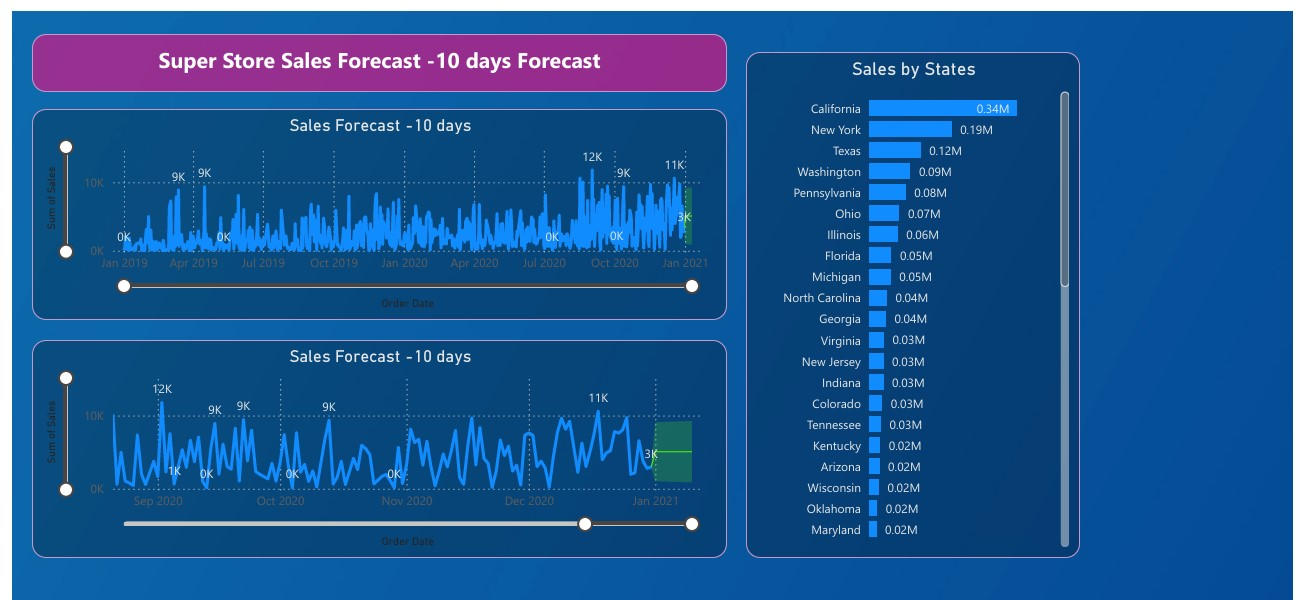

This screenshot's page, from the dashboard's own definition file:
{"tool":"powerbi","page":{"name":"Page 2","canvas":[1280,720],"ordinal":1},"visuals":[{"type":"lineChart","title":"Sales Forecast -10 days","fields":{"Y":["Sum(SuperStore_Sales_Dataset.Sales)"],"Category":["SuperStore_Sales_Dataset.Order Date"]},"box":[19,97,695,211],"z":0},{"type":"lineChart","title":"Sales Forecast -10 days","fields":{"Y":["Sum(SuperStore_Sales_Dataset.Sales)"],"Category":["SuperStore_Sales_Dataset.Order Date"]},"box":[19,328,695,218],"z":1000},{"type":"clusteredBarChart","title":"Sales by States","fields":{"Category":["SuperStore_Sales_Dataset.State"],"Y":["Sum(SuperStore_Sales_Dataset.Sales)"]},"box":[733,40,334,506],"z":2000},{"type":"textbox","box":[19,22,695,58],"z":3000}]}

Visuals, with their boxes on the page's 1280x720 design canvas (x1, y1, x2, y2). These are canvas units, not pixel positions in the 1306x600 screenshot, which may show the page scaled, cropped or inside an application window:
"Sales Forecast -10 days" lineChart: [19,97,714,308]
"Sales Forecast -10 days" lineChart: [19,328,714,546]
"Sales by States" clusteredBarChart: [733,40,1067,546]
textbox: [19,22,714,80]
